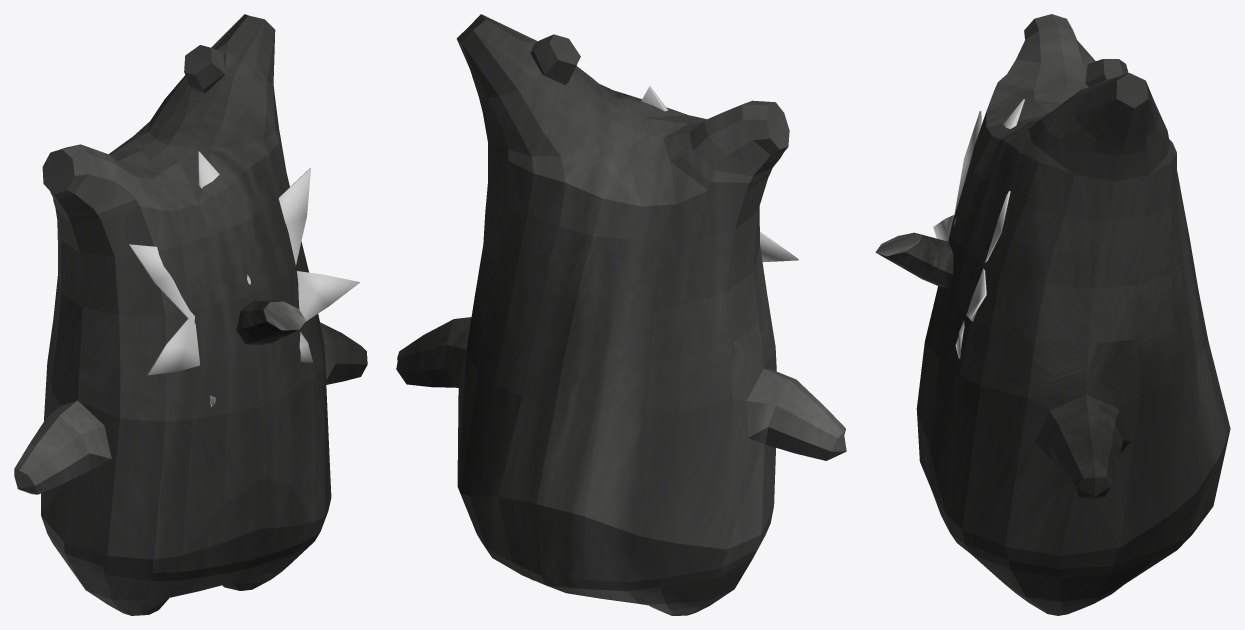
The model's file is frame_0058.obj.
3 renders of one model, left to right at view 1: azimuth 30°, elevation 25°; view 2: azimuth 150°, elevation 25°; view 3: azimuth 270°, elevation 25°, orthographic. The views are drawn at different scales.
Visible parts, largest first — view 1: korok, leaf.003_柱体.013, nose.003_柱体.011; view 2: korok, leaf.003_柱体.013; view 3: korok, nose.003_柱体.011, leaf.003_柱体.013.
Part boxes in pixels (left/top/right/bottom): korok: left=14, top=14, right=367, bottom=615; leaf.003_柱体.013: left=129, top=151, right=360, bottom=406; nose.003_柱体.011: left=236, top=301, right=305, bottom=344; korok: left=396, top=14, right=846, bottom=615; leaf.003_柱体.013: left=641, top=86, right=798, bottom=262; korok: left=916, top=14, right=1230, bottom=615; nose.003_柱体.011: left=875, top=232, right=953, bottom=287; leaf.003_柱体.013: left=933, top=99, right=1024, bottom=358.
Bounding box in the file's own units: 1.7 × 2.29 × 1.32.
